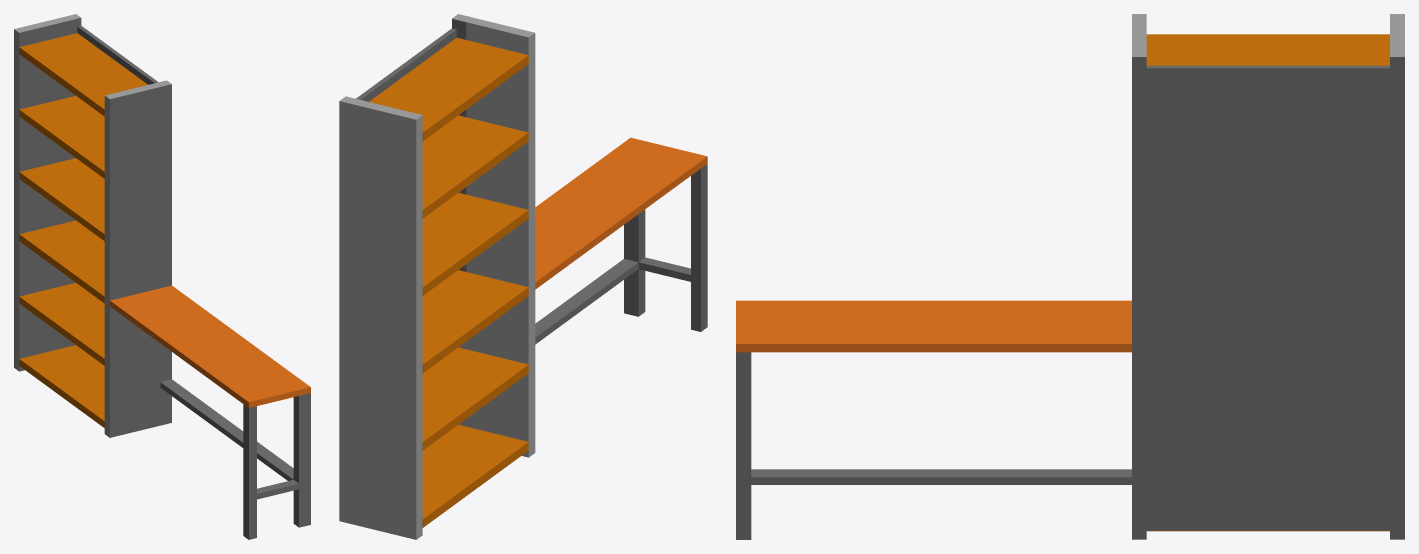
File: bookcase and table.fbx
The picture shows the model from 3 angles, left to right: view 1: azimuth 30°, elevation 25°; view 2: azimuth 150°, elevation 25°; view 3: azimuth 270°, elevation 25°; orthographic projection. The views are drawn at different scales.
Parts seen in each view (by area): view 1: Cube.001, Cube, Cube.002; view 2: Cube.001, Cube, Cube.002; view 3: Cube.002, Cube.001, Cube.
Part boxes in pixels (bbox=[...]): Cube.001: bbox=[14, 14, 310, 539]; Cube: bbox=[19, 33, 147, 427]; Cube.002: bbox=[77, 25, 158, 84]; Cube.001: bbox=[339, 14, 707, 539]; Cube: bbox=[369, 37, 528, 527]; Cube.002: bbox=[356, 28, 456, 101]; Cube.002: bbox=[1145, 65, 1391, 530]; Cube.001: bbox=[736, 14, 1404, 539]; Cube: bbox=[1146, 34, 1389, 531].
Size of the model in its own units: 200 by 1045 by 1311.
